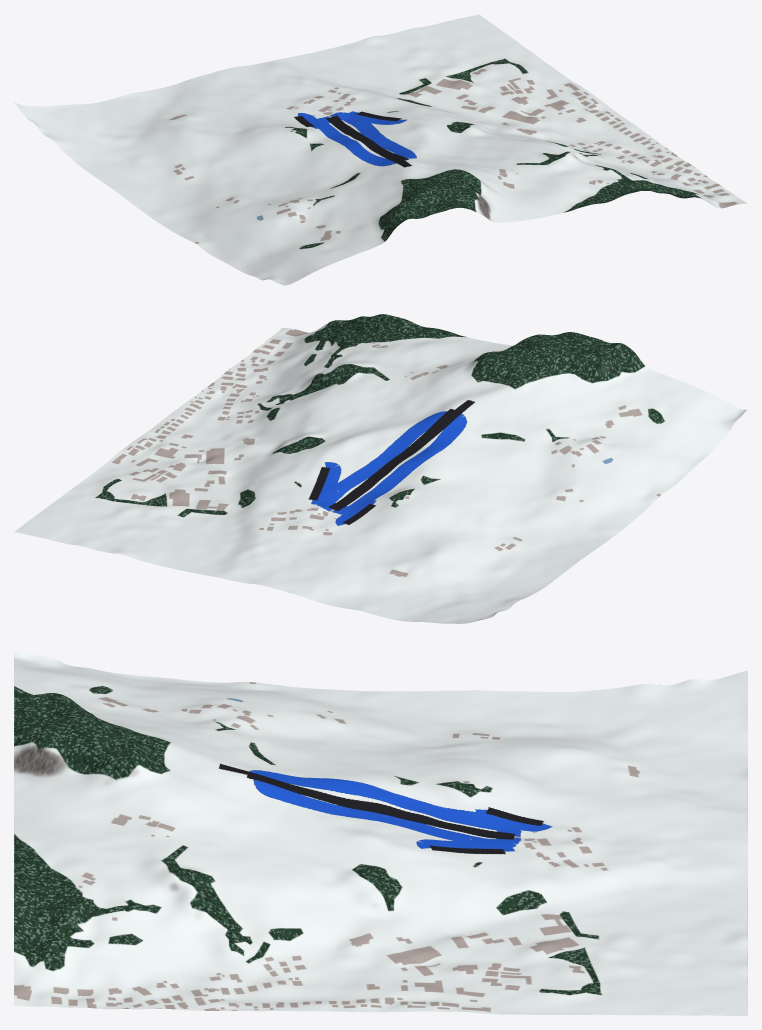
The picture shows the model from 3 angles, top to bottom: view 1: azimuth 30°, elevation 25°; view 2: azimuth 150°, elevation 25°; view 3: azimuth 270°, elevation 25°; orthographic projection. The views are drawn at different scales.
Visible parts, largest first — view 1: H3_Sinswang.glb; view 2: H3_Sinswang.glb; view 3: H3_Sinswang.glb.
Part boxes in pixels (x1,y1,x2,y2): H3_Sinswang.glb: [14, 14, 747, 285]; H3_Sinswang.glb: [14, 314, 747, 623]; H3_Sinswang.glb: [14, 652, 747, 1015].
Bounding box in the file's own units: 1274 × 198 × 1274.
1 material, 1 textured.
